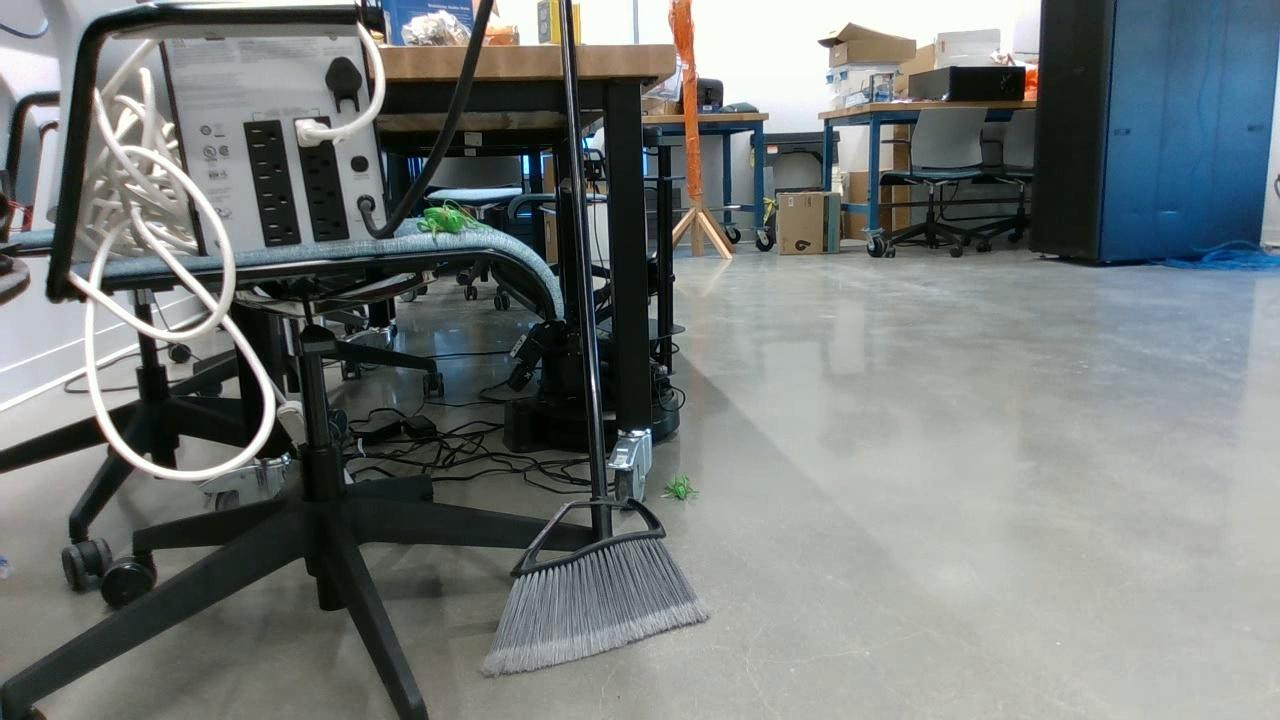grasshopper: (416, 207, 467, 242), (659, 475, 699, 505)
